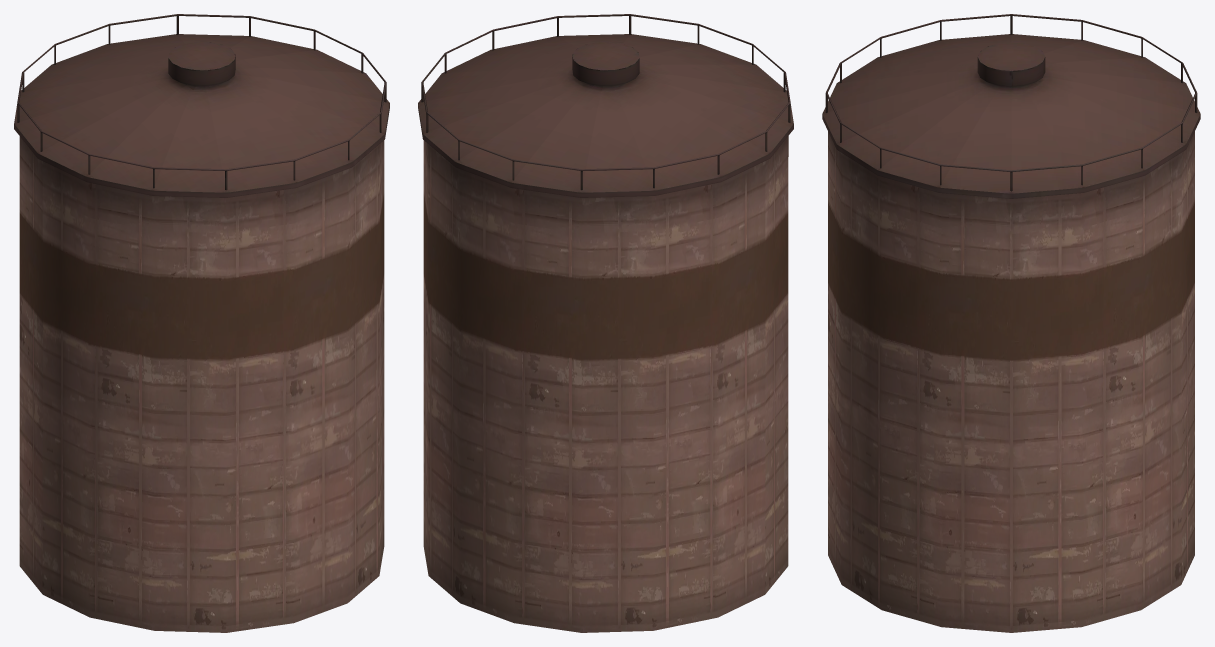
3 views of the same model, side by side, from view 1: azimuth 30°, elevation 25°; view 2: azimuth 150°, elevation 25°; view 3: azimuth 270°, elevation 25° (orthographic).
Visible parts, largest first — view 1: body0_model0_lod0_mesh1, body0_model0_lod0_mesh0; view 2: body0_model0_lod0_mesh1, body0_model0_lod0_mesh0; view 3: body0_model0_lod0_mesh1, body0_model0_lod0_mesh0.
Boxes of the visible parts, x1,y1,x2,y2 form: body0_model0_lod0_mesh1: (19, 136, 384, 632); body0_model0_lod0_mesh0: (14, 14, 389, 197); body0_model0_lod0_mesh1: (423, 136, 788, 632); body0_model0_lod0_mesh0: (418, 14, 793, 197); body0_model0_lod0_mesh1: (828, 131, 1194, 632); body0_model0_lod0_mesh0: (822, 14, 1200, 198).
Bounding box in the file's own units: 33 × 48.25 × 33.
2 materials, 2 textured.
